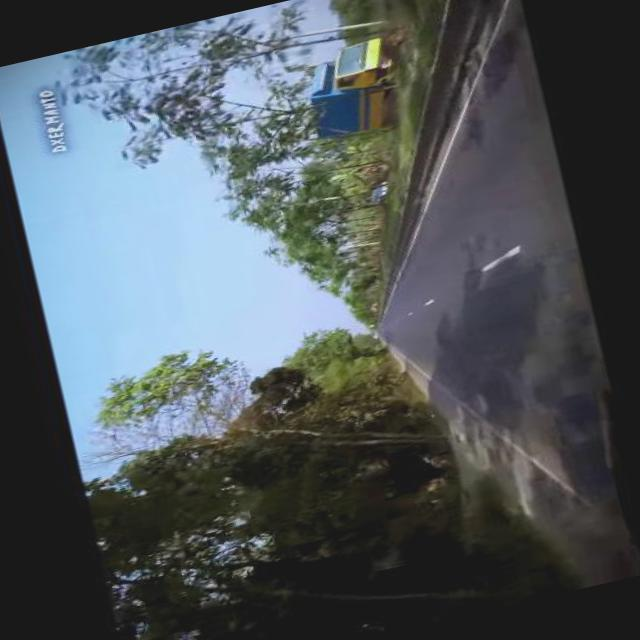car: (366, 181, 390, 205)
truck: (292, 30, 422, 146)
